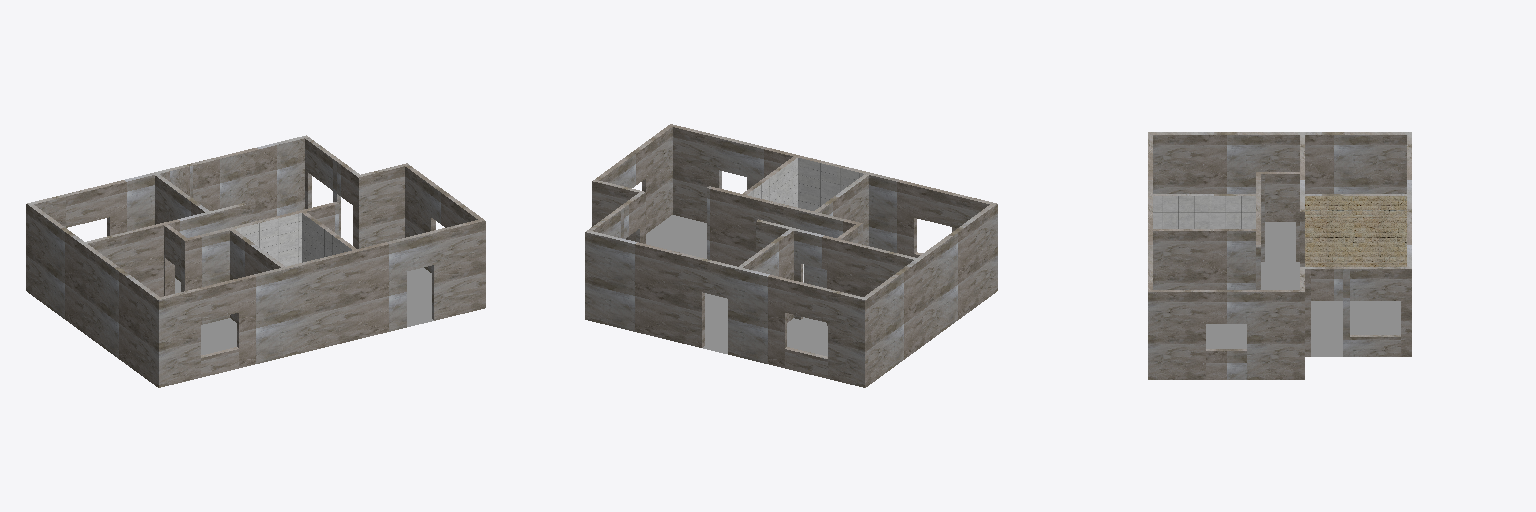
3 renders of one model, left to right at view 1: azimuth 30°, elevation 25°; view 2: azimuth 150°, elevation 25°; view 3: azimuth 270°, elevation 25°, orthographic.
Visible parts, largest first — view 1: Cube; view 2: Cube; view 3: Cube.
Boxes of the visible parts, box(x1,y1,x2,y2) form: Cube: box(26, 135, 485, 387); Cube: box(585, 124, 997, 387); Cube: box(1148, 132, 1411, 379).
Size of the model in its own units: 20 by 5.13 by 14.
Materials: 4 (3 with a texture image).